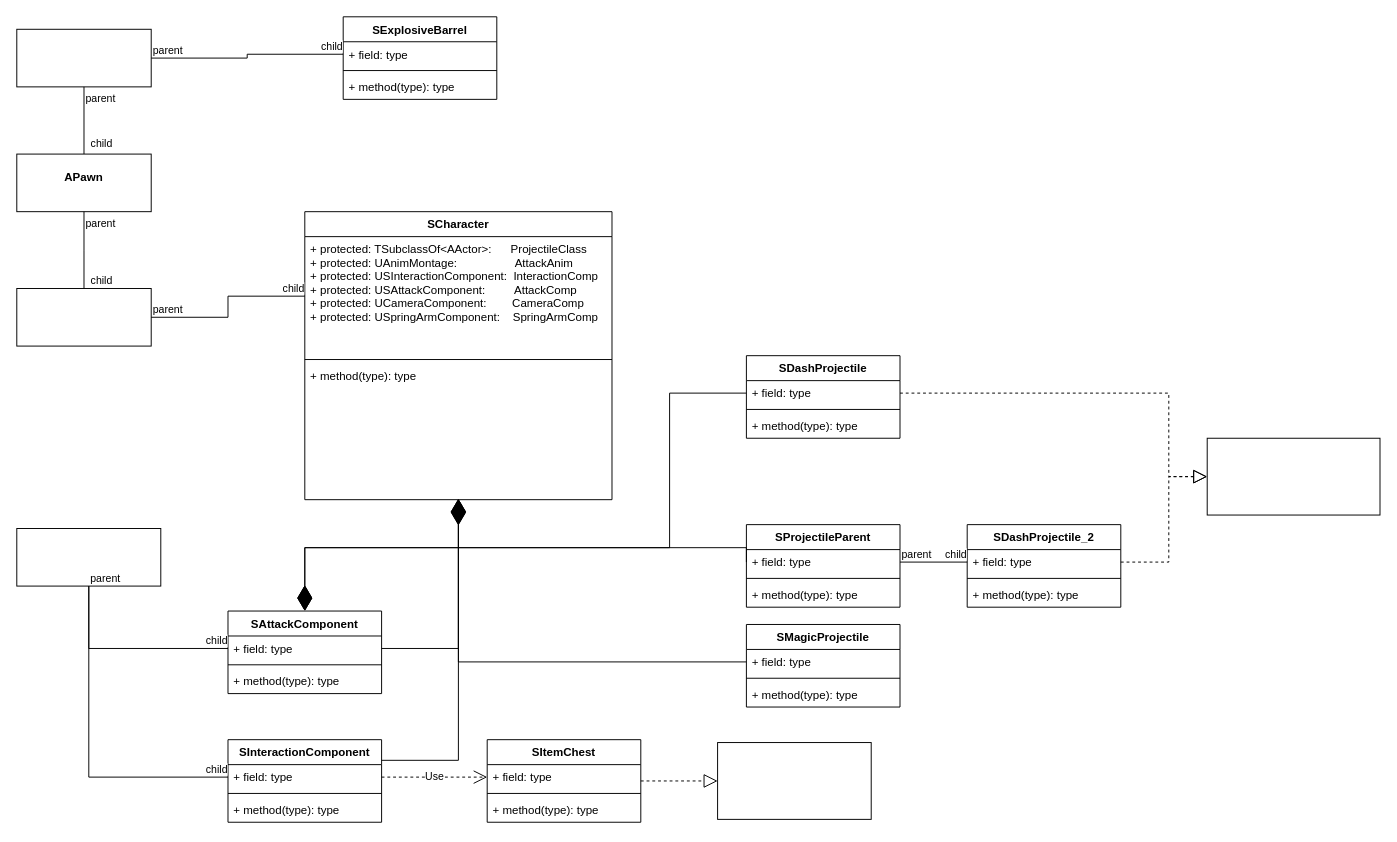
The diagram is 1397 pixels wide and 842 high, and some of its shapes have lost their labels. The shapes that lost their labels are listed below. From the top down, each one's centre as x and y in pixels, then its label:
At pixel 83 57: "AActor".
At pixel 83 317: "ACharacter".
At pixel 1293 476: "<<Interface>> SProjectileInterface + ProjectileAttack(Apawn): void".
At pixel 88 557: "UActorComponent".
At pixel 794 780: "<<Interface>> SGameplayInterface + Interact(Apawn): void".
